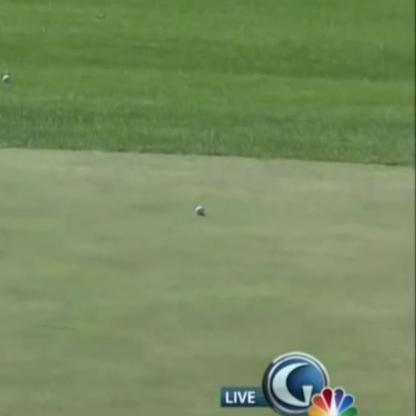golfball: (191, 203, 204, 214)
